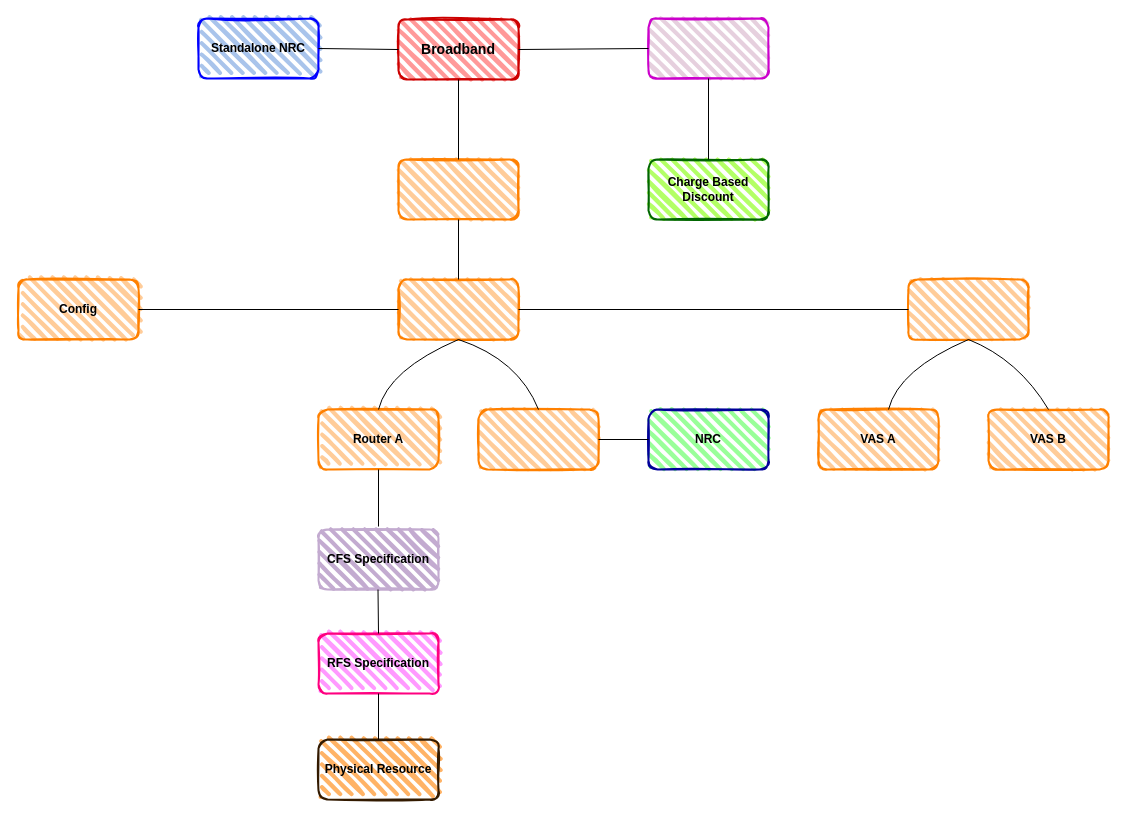
The diagram is 1126 pixels wide and 817 high, and some of its shapes have lost their labels. The centre of each missing label's shape, as x and y in pixels:
Broadband Product Specification: the point at 458,189
Equipment: the point at 458,309
MRC: the point at 708,48
Router B: the point at 538,439
VAS: the point at 968,309
